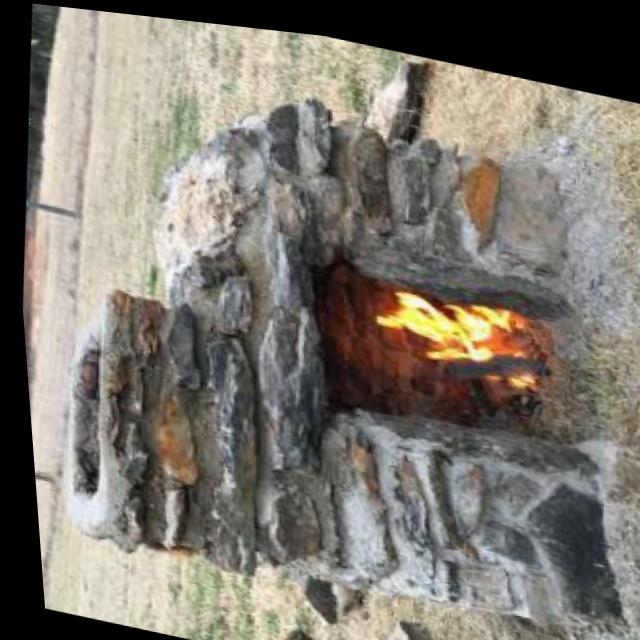Fire: (365, 262, 549, 385)
